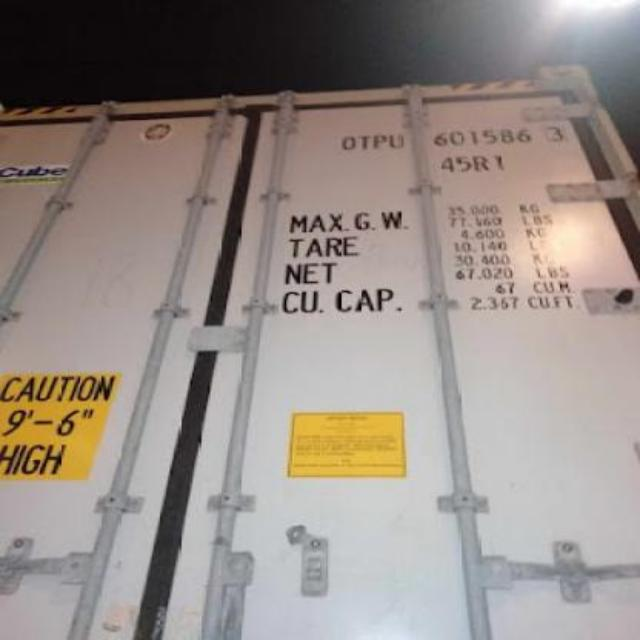0: (450, 119, 468, 151)
1: (468, 120, 480, 150)
3: (542, 118, 568, 144)
5: (480, 120, 496, 150)
6: (516, 118, 534, 152), (432, 122, 448, 148)
8: (498, 118, 516, 152)
O: (338, 128, 356, 156)
P: (370, 128, 386, 156)
T: (352, 128, 373, 156)
U: (388, 128, 406, 156)
